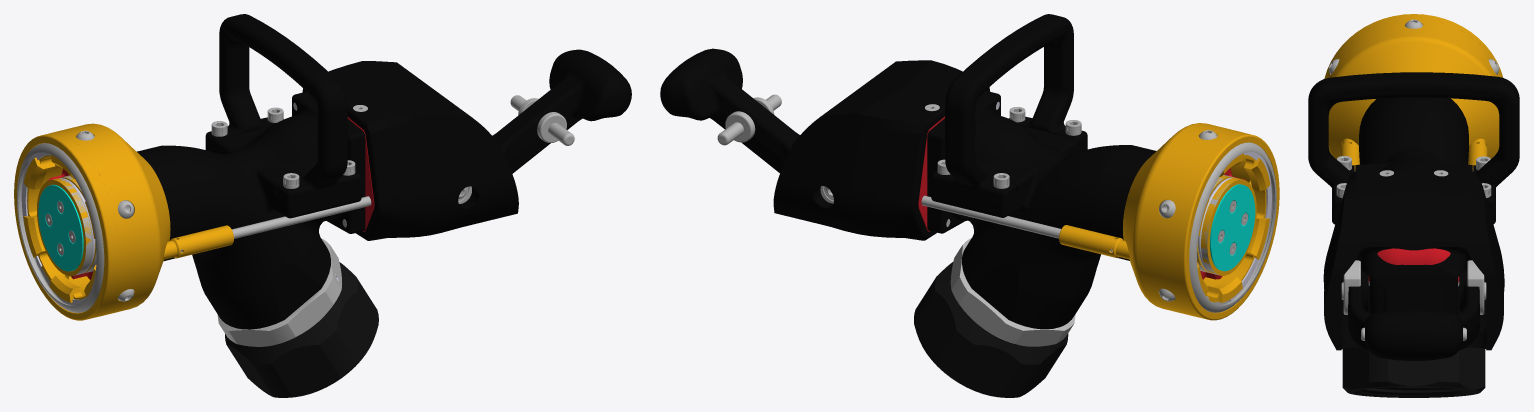
Rendered from atticus-1200.glb.
3 views of the same model, side by side, from view 1: azimuth 30°, elevation 25°; view 2: azimuth 150°, elevation 25°; view 3: azimuth 270°, elevation 25° (orthographic). The views are drawn at different scales.
Visible parts, largest first — view 1: fnt-cahtm-2HV-2.5_fnt-cahtm-2-300, fn300-PT3D-PACF, fnt-cahtm-3, sw300-m-2_swiv2-mablul-1, fn300-m-1, fn300-m-4, fnt-cam-5_fn-cam-5, sw300-m-1, se-vr-1, fn300-m-9, fn300-m-001, fn300-m-002 (+4 smaller); view 2: fnt-cahtm-2HV-2.5_fnt-cahtm-2-300, fn300-PT3D-PACF, fnt-cahtm-3, sw300-m-2_swiv2-mablul-1, fn300-m-1, fn300-m-4, fnt-cam-5_fn-cam-5, sw300-m-1, se-vr-1, fn300-m-9, fn300-m-11, fn300-m-2_Predeterminado (+4 smaller); view 3: fn300-PT3D-PACF, fn300-m-1, fnt-cahtm-3, fnt-cahtm-2HV-2.5_fnt-cahtm-2-300, fnt-cam-5_fn-cam-5, sw300-m-2_swiv2-mablul-1, fnt-cam-4_fnt-cahtm-4, fn300-m-4, fn-pm-7i, fn-pm-7d, fn300-m-11, fn300-m-001.
Part boxes in pixels (left/top/right/bottom): fnt-cahtm-2HV-2.5_fnt-cahtm-2-300: left=137, top=91, right=365, bottom=329; fn300-PT3D-PACF: left=302, top=61, right=518, bottom=240; fnt-cahtm-3: left=205, top=14, right=361, bottom=202; sw300-m-2_swiv2-mablul-1: left=225, top=262, right=378, bottom=397; fn300-m-1: left=52, top=123, right=170, bottom=317; fn300-m-4: left=14, top=132, right=119, bottom=320; fnt-cam-5_fn-cam-5: left=492, top=49, right=631, bottom=173; sw300-m-1: left=217, top=238, right=341, bottom=346; se-vr-1: left=17, top=143, right=104, bottom=312; fn300-m-9: left=38, top=184, right=83, bottom=271; fn300-m-001: left=163, top=225, right=233, bottom=259; fn300-m-002: left=181, top=196, right=371, bottom=251; fnt-cahtm-2HV-2.5_fnt-cahtm-2-300: left=927, top=90, right=1156, bottom=329; fn300-PT3D-PACF: left=773, top=60, right=989, bottom=240; fnt-cahtm-3: left=931, top=14, right=1087, bottom=202; sw300-m-2_swiv2-mablul-1: left=914, top=262, right=1068, bottom=397; fn300-m-1: left=1122, top=123, right=1241, bottom=317; fn300-m-4: left=1173, top=132, right=1279, bottom=320; fnt-cam-5_fn-cam-5: left=660, top=48, right=799, bottom=172; sw300-m-1: left=950, top=238, right=1075, bottom=346; se-vr-1: left=1189, top=142, right=1276, bottom=312; fn300-m-9: left=1209, top=184, right=1255, bottom=271; fn300-m-11: left=1059, top=225, right=1129, bottom=259; fn300-m-2_Predeterminado: left=1197, top=175, right=1256, bottom=275; fn300-PT3D-PACF: left=1323, top=168, right=1504, bottom=350; fn300-m-1: left=1326, top=19, right=1501, bottom=158; fnt-cahtm-3: left=1308, top=72, right=1519, bottom=209; fnt-cahtm-2HV-2.5_fnt-cahtm-2-300: left=1332, top=97, right=1495, bottom=224; fnt-cam-5_fn-cam-5: left=1348, top=270, right=1479, bottom=360; sw300-m-2_swiv2-mablul-1: left=1342, top=347, right=1485, bottom=397; fnt-cam-4_fnt-cahtm-4: left=1368, top=248, right=1459, bottom=282; fn300-m-4: left=1324, top=14, right=1503, bottom=78; fn-pm-7i: left=1343, top=260, right=1360, bottom=314; fn-pm-7d: left=1467, top=260, right=1484, bottom=314; fn300-m-11: left=1468, top=138, right=1487, bottom=170; fn300-m-001: left=1340, top=138, right=1359, bottom=170.
Bounding box in the file's own units: 0.3868 × 0.2265 × 0.1308.
